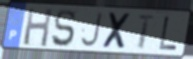H: (21, 7, 54, 49)
J: (79, 11, 104, 49)
L: (157, 16, 179, 52)
S: (50, 8, 77, 49)
T: (136, 13, 157, 51)
X: (101, 11, 134, 52)
